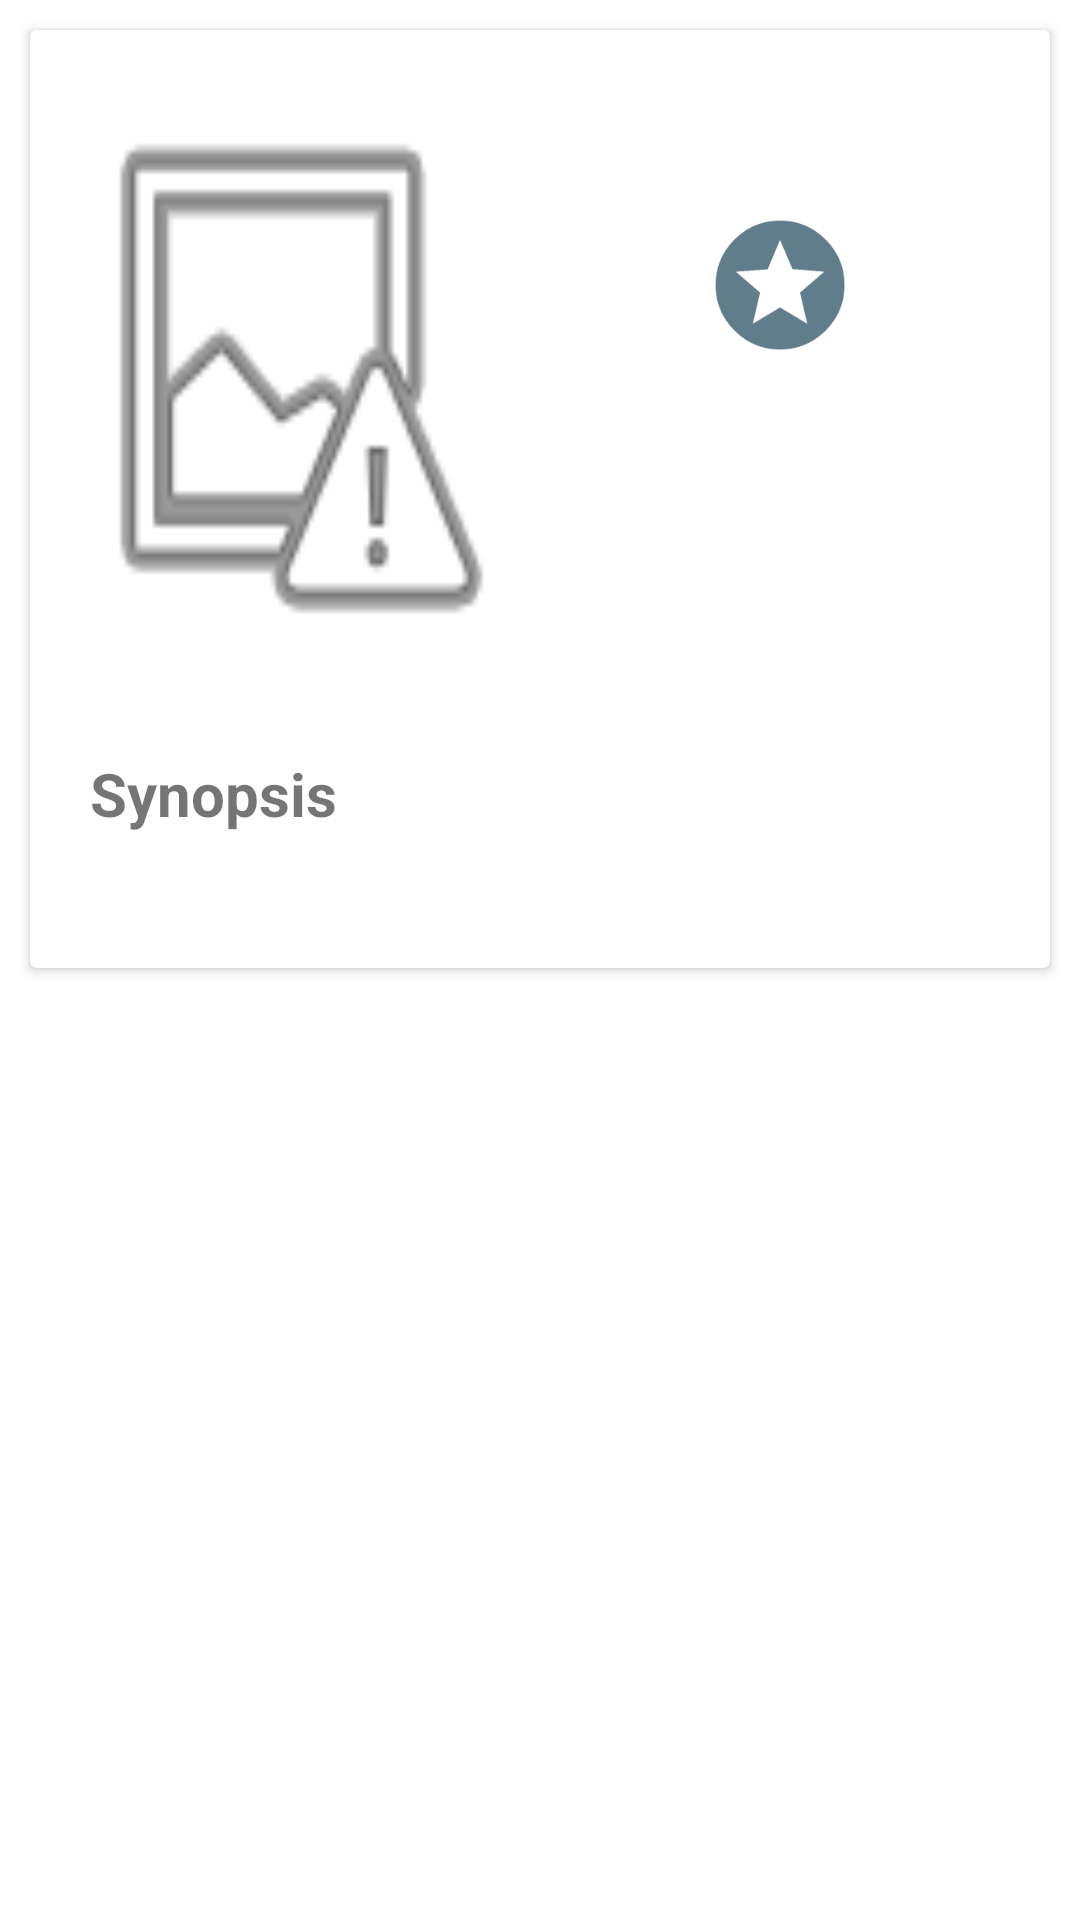

Icons on this 1080 x 1920 Android screen, each with the point to tap as [x,y]:
stars: [780,285]
